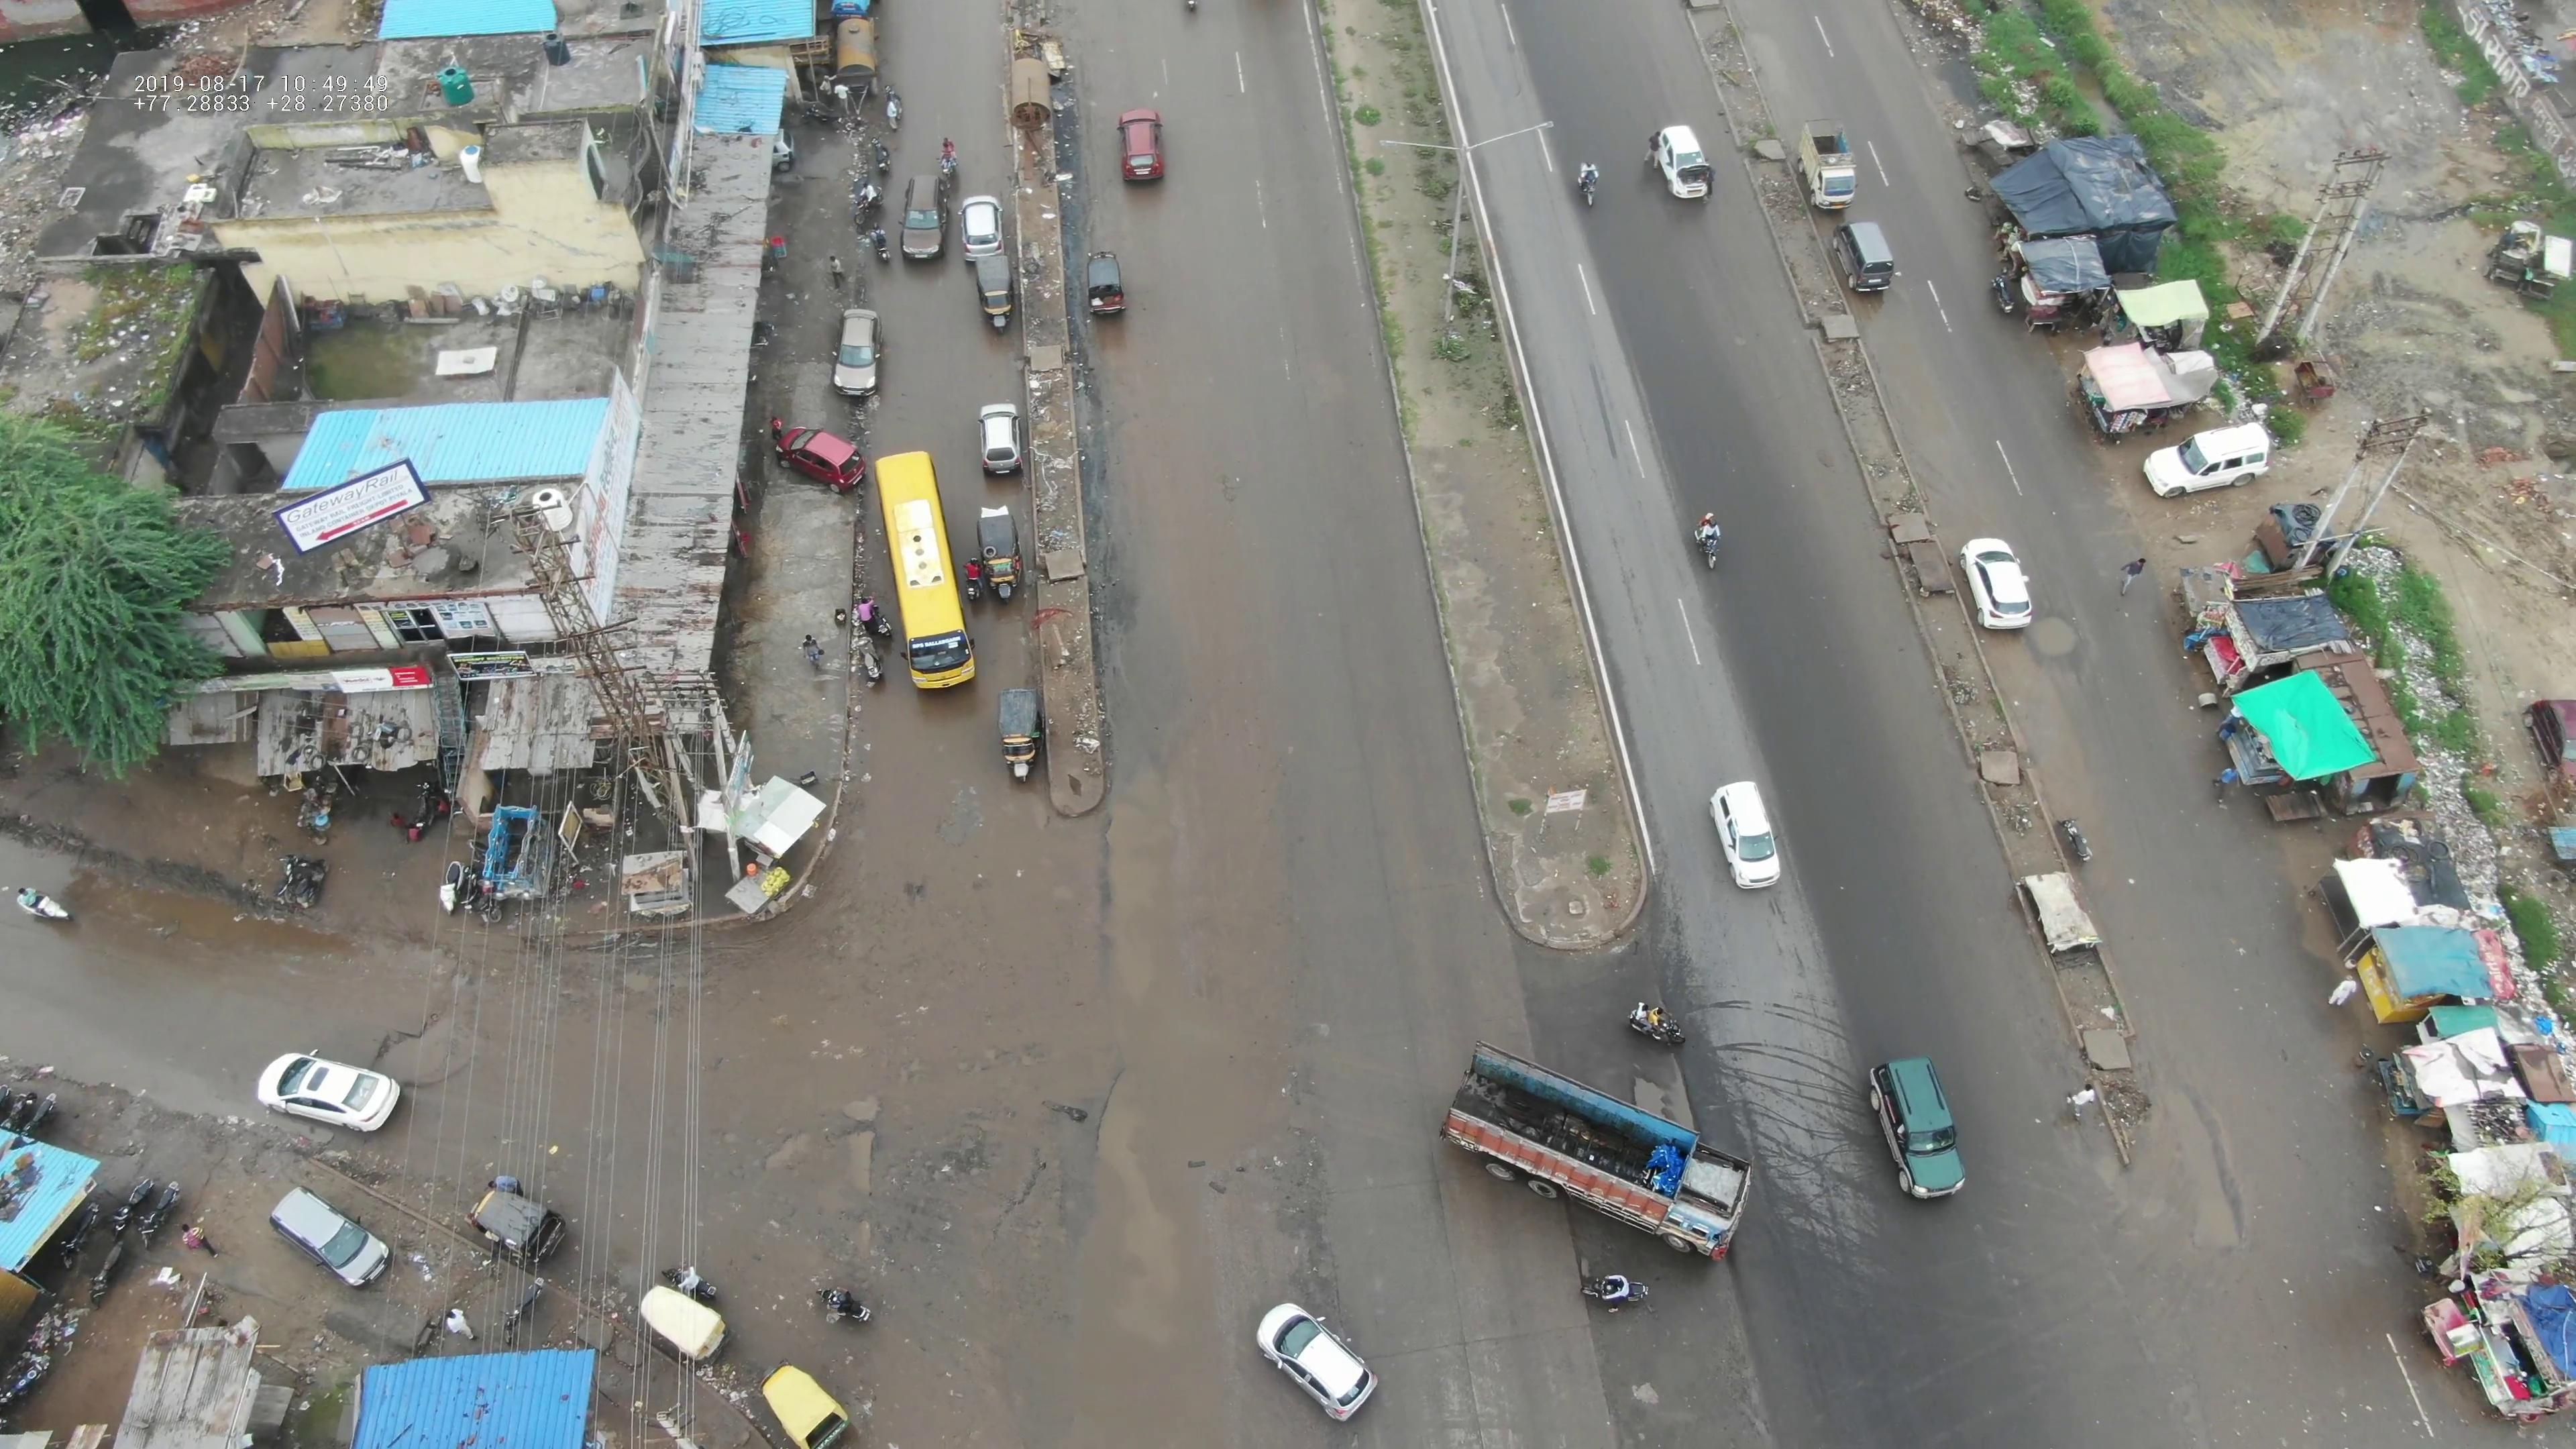Potholes: (824, 1067, 1200, 1304), (2150, 1047, 2261, 1260), (361, 955, 483, 1077)
